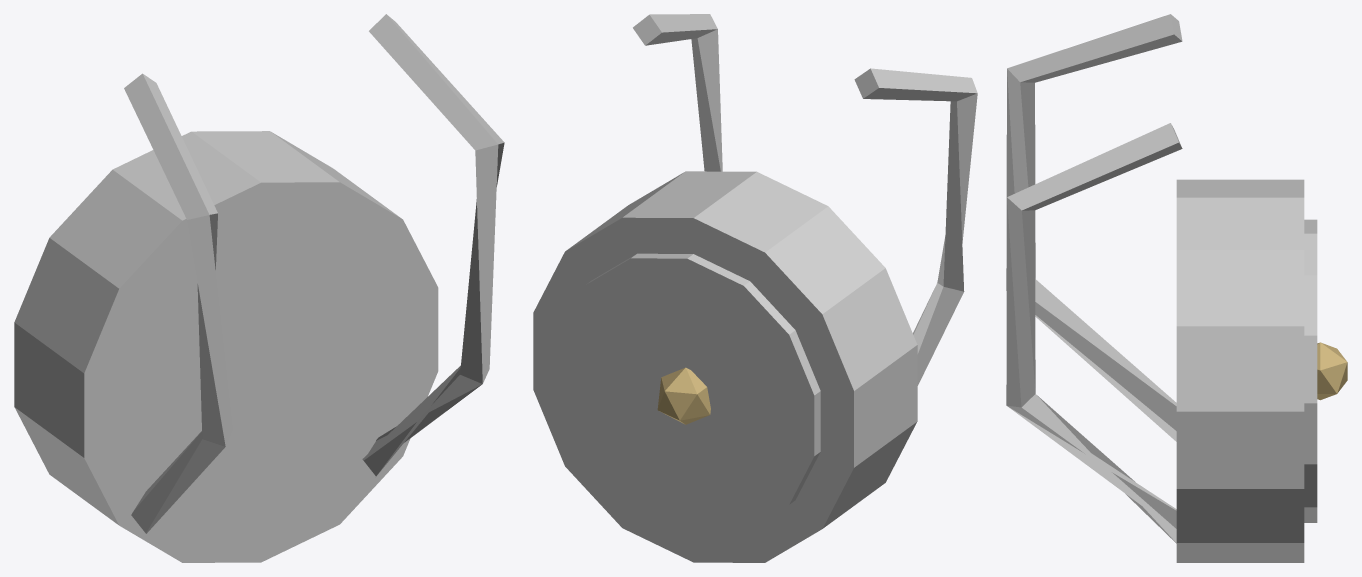
Rendered from acc_bag_round_v01.glb.
3 renders of one model, left to right at view 1: azimuth 30°, elevation 25°; view 2: azimuth 150°, elevation 25°; view 3: azimuth 270°, elevation 25°, orthographic. The views are drawn at different scales.
Parts seen in each view (by area): view 1: acc_bag_round; view 2: acc_bag_round; view 3: acc_bag_round.
Part boxes in pixels (left/top/right/bottom): acc_bag_round: left=14, top=14, right=504, bottom=562; acc_bag_round: left=533, top=14, right=977, bottom=562; acc_bag_round: left=1006, top=14, right=1347, bottom=562.
Bounding box in the file's own units: 0.234 × 0.3293 × 0.2136.
